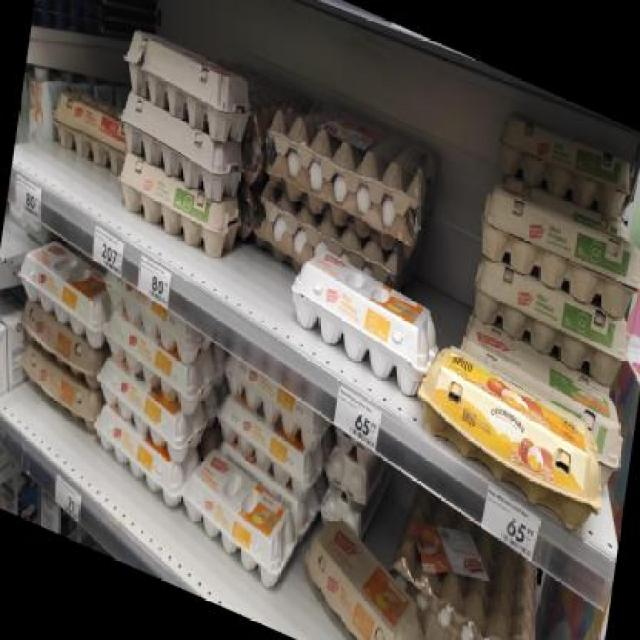Egg: (412, 336, 611, 540), (284, 238, 442, 402), (472, 178, 640, 327), (465, 250, 633, 392), (175, 436, 302, 595), (489, 99, 637, 230), (295, 512, 431, 640), (115, 149, 242, 266), (101, 312, 216, 420), (210, 392, 325, 500), (92, 359, 208, 466), (323, 444, 372, 501), (318, 484, 367, 541)
